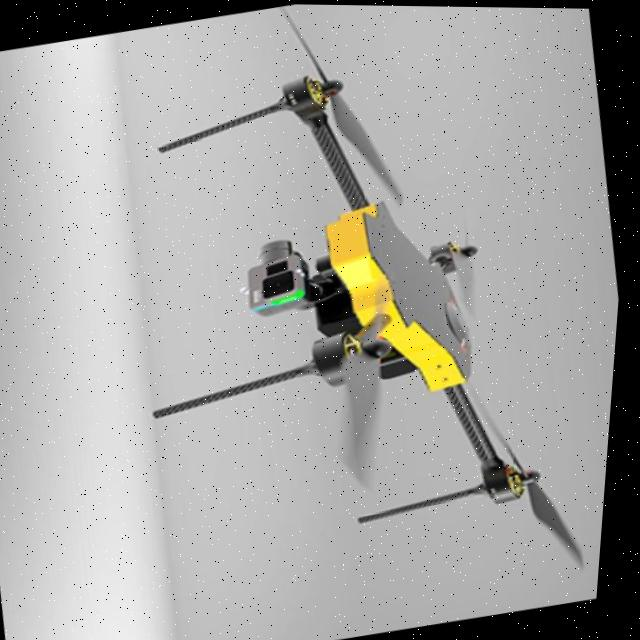drones: (41, 1, 640, 640)
